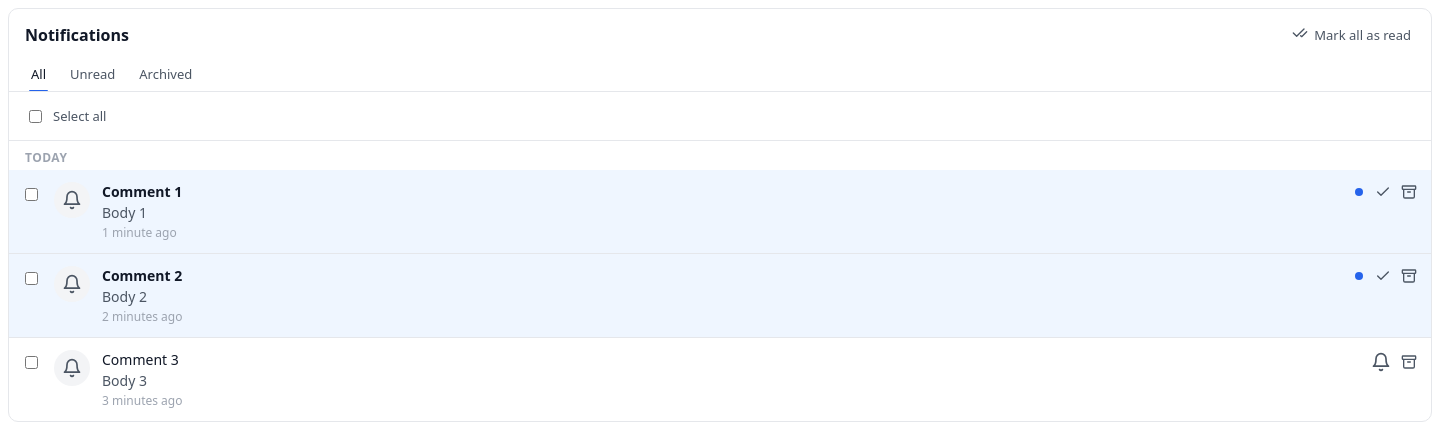
Test: Inbox page › selects all and runs bulk actions
The image size is (1440, 439).
Click the checkbox labelled "Select all" at [36, 116], box [29,110,42,122]
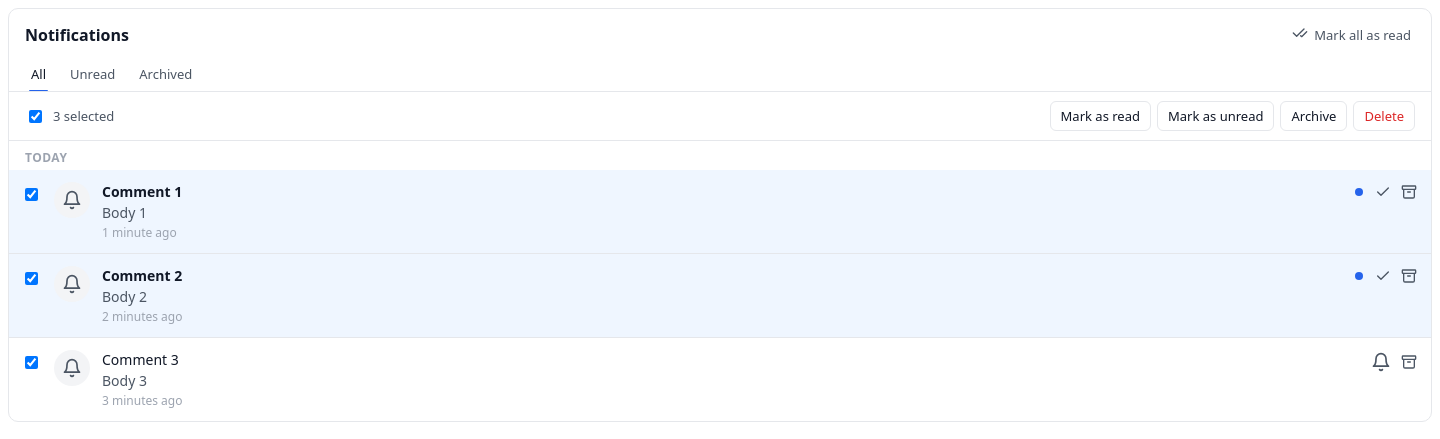
expect the text "3 selected" is shown: met, box [25,106,114,126]
Click the button "Mark as read" at [1100, 116], box [1050,101,1151,131]
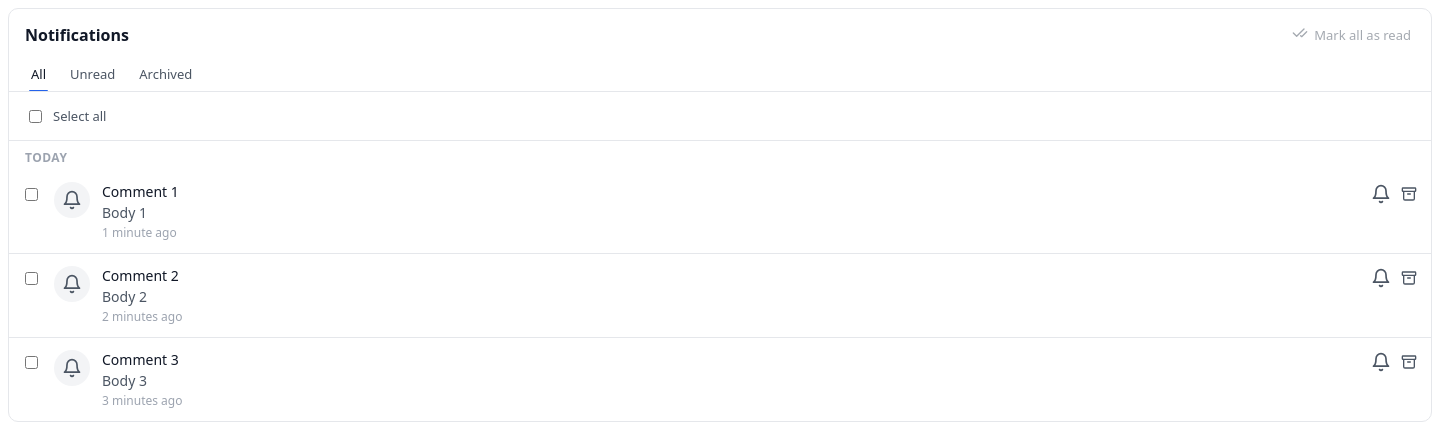
Click the checkbox labelled "Comment 1" at [32, 194], box [25,188,38,201]
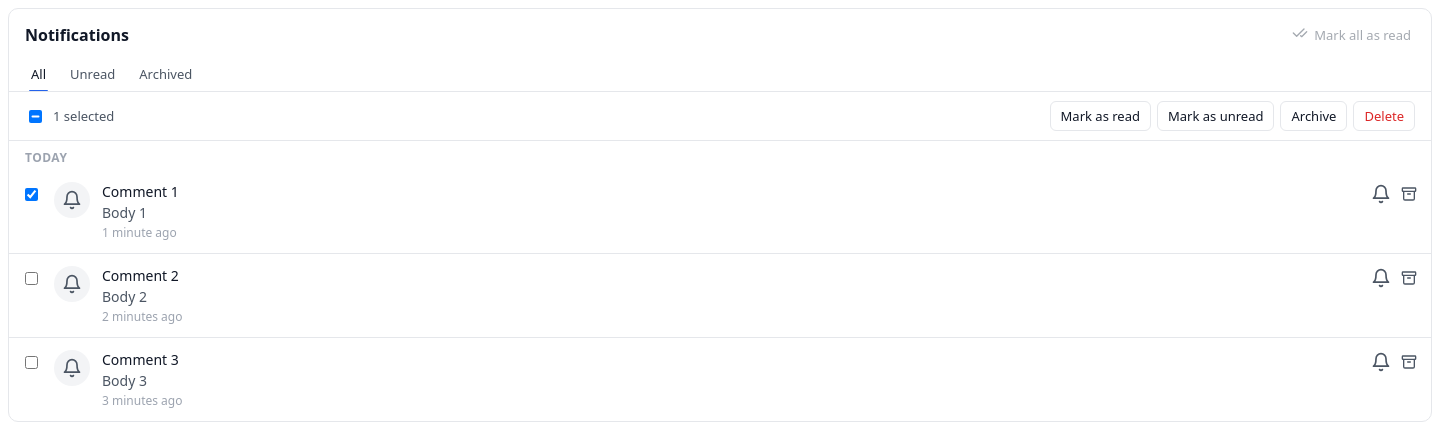
Click the button "Delete" at [1384, 116], box [1354,101,1415,131]
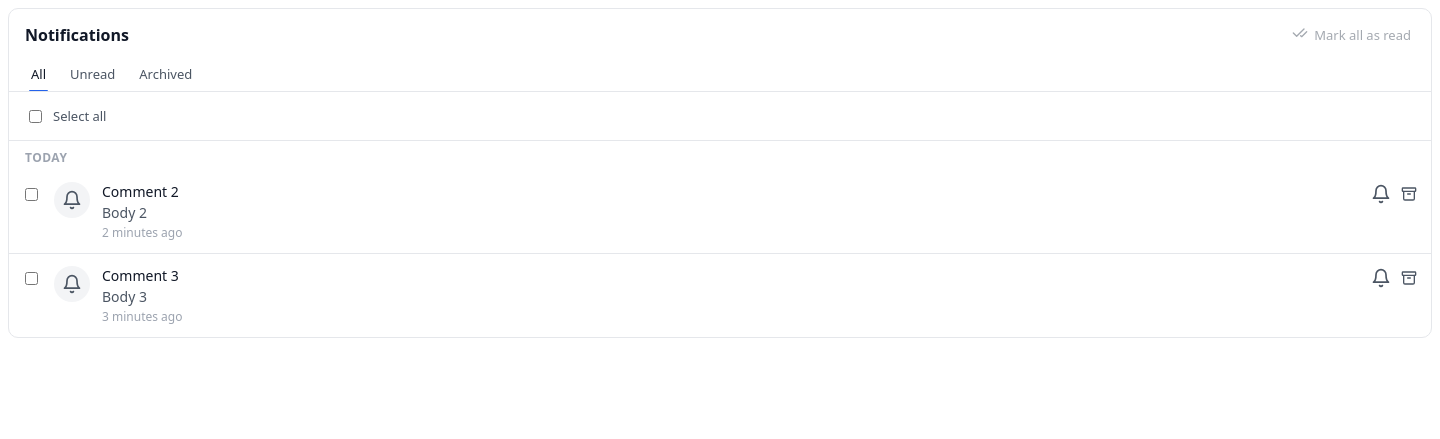
expect the number of list items is 2: met, box [9,170,1431,254]; [9,254,1431,337]
